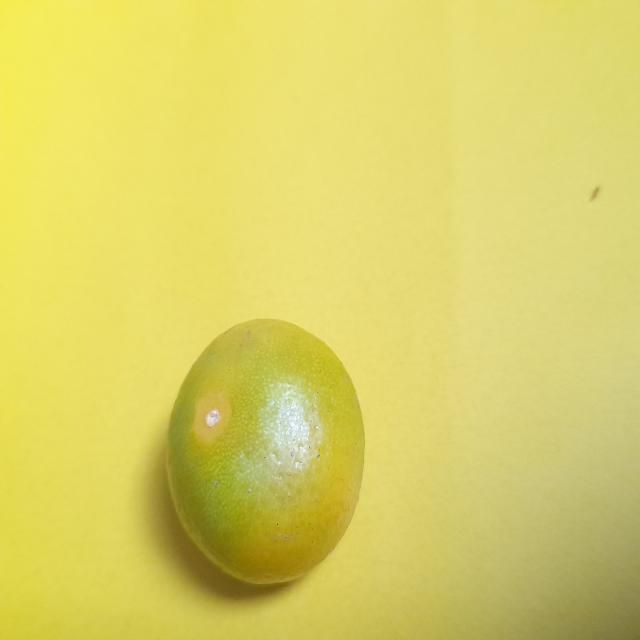greening: (162, 301, 370, 582)
